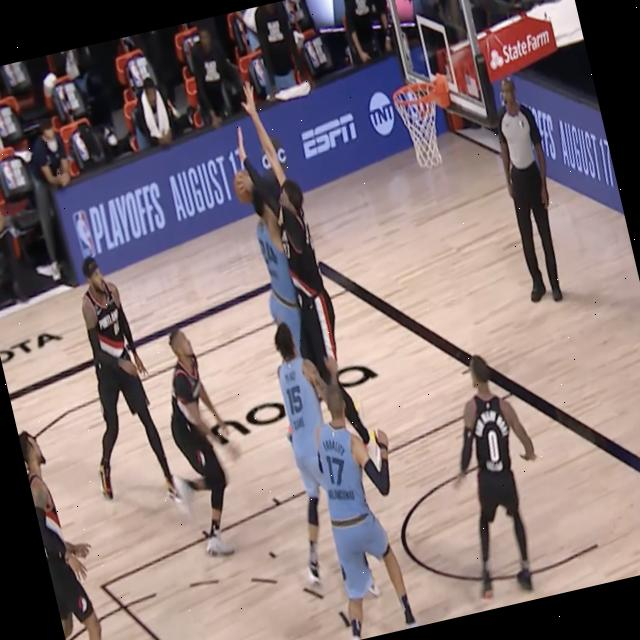foul: (206, 70, 370, 450)
no foul: (301, 374, 439, 632), (241, 312, 365, 598)
